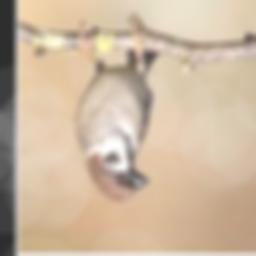Sparrow: (74, 18, 159, 202)
